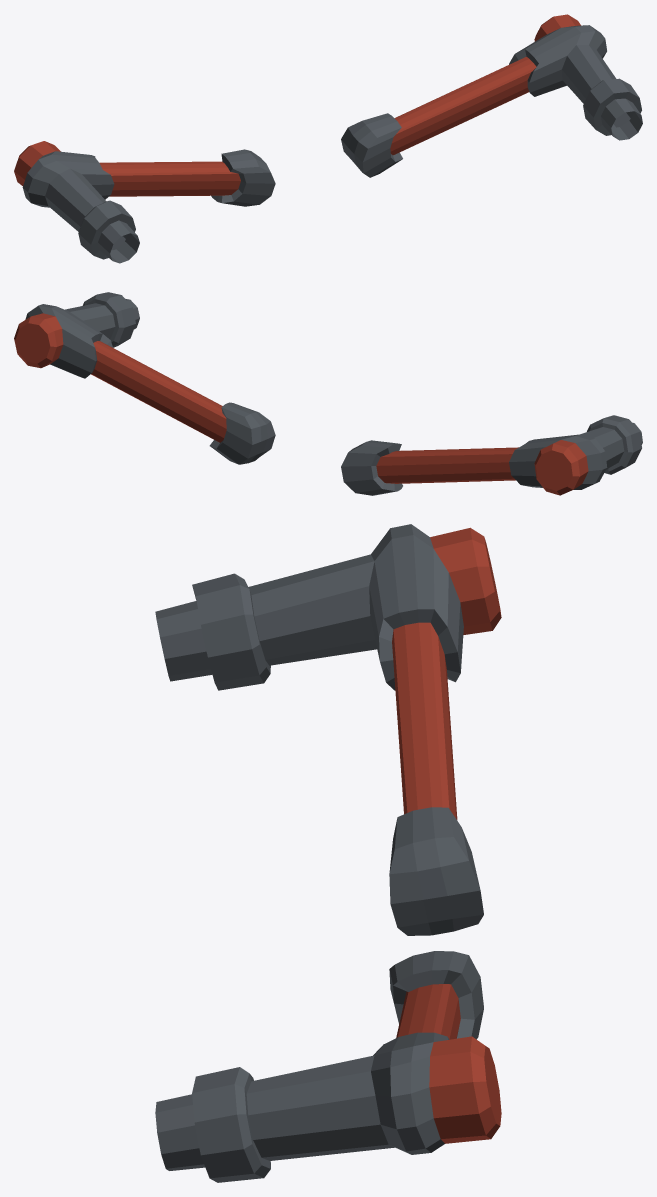
File: Personal_Vehicle_02_Handle_Bars_Red.fbx
3 renders of one model, top to bottom at view 1: azimuth 30°, elevation 25°; view 2: azimuth 150°, elevation 25°; view 3: azimuth 270°, elevation 25°, orthographic. The views are drawn at different scales.
Visible parts, largest first — view 1: Personal_Vehicle_02_Handle_Bars_Red; view 2: Personal_Vehicle_02_Handle_Bars_Red; view 3: Personal_Vehicle_02_Handle_Bars_Red.
Boxes of the visible parts, <box> form: Personal_Vehicle_02_Handle_Bars_Red: <box>14,14,642,263</box>; Personal_Vehicle_02_Handle_Bars_Red: <box>14,292,642,495</box>; Personal_Vehicle_02_Handle_Bars_Red: <box>155,524,501,1182</box>.
Bounding box in the file's own units: 50.49 × 8.54 × 13.05.
Materials: 1 (1 with a texture image).
